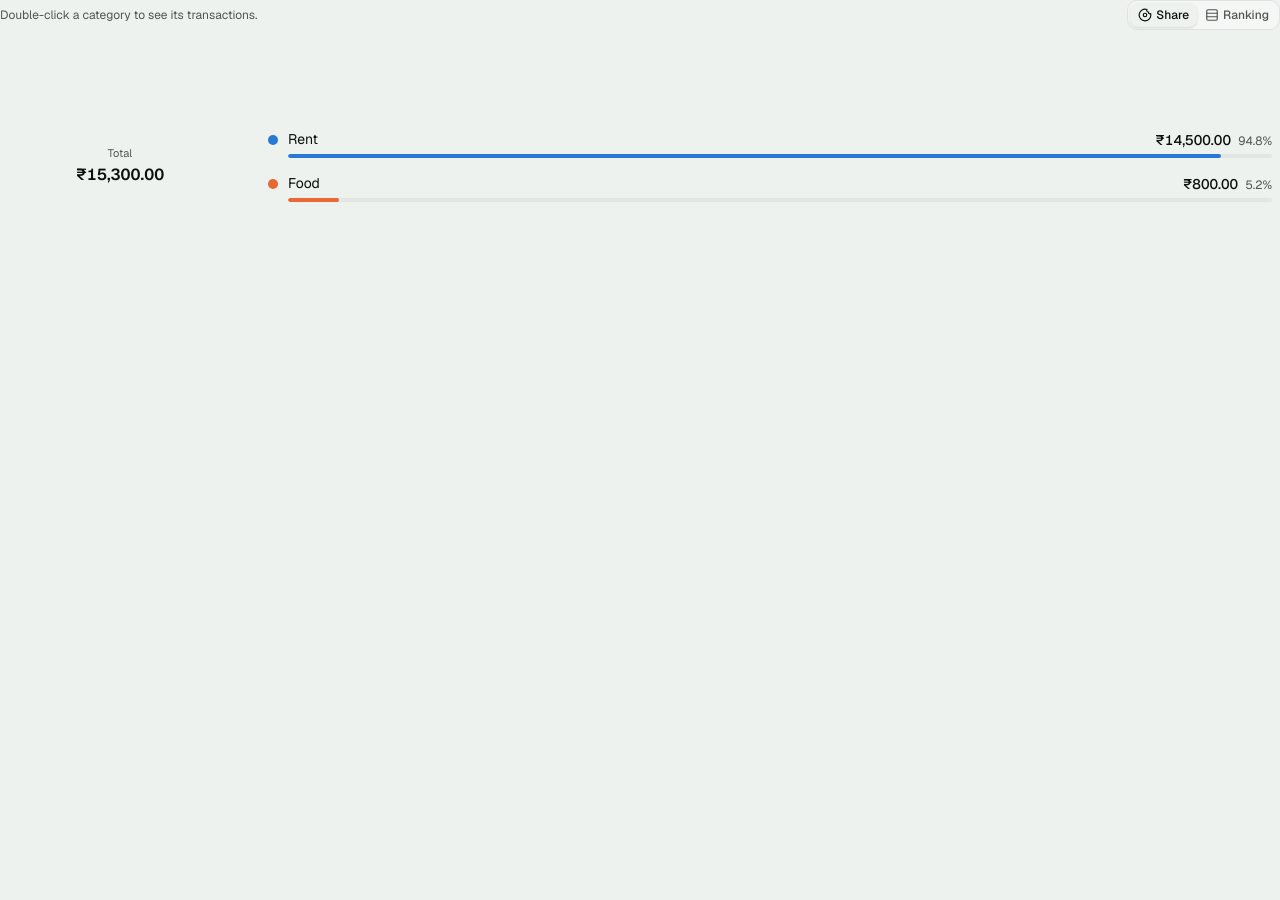
Test case: Category transactions pop-up › does not open on a single click, and opens with Enter from the keyboard
This screenshot has width=1280, height=900.
Click the button "Food ₹800.00 5.2%" at (304, 183), box [260,168,1279,208]
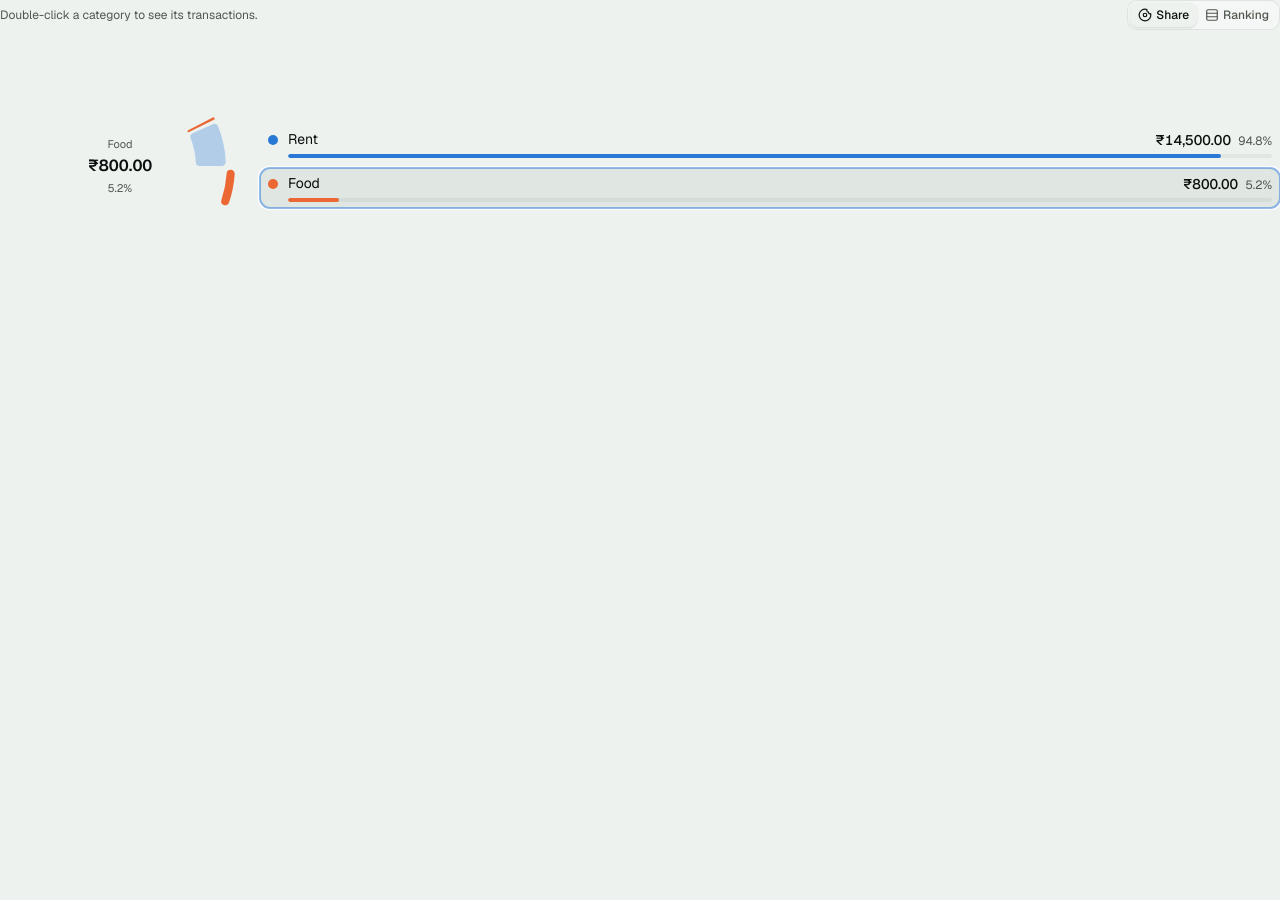
Click the button "Food ₹800.00 5.2%" at (304, 183), box [260,168,1279,208]
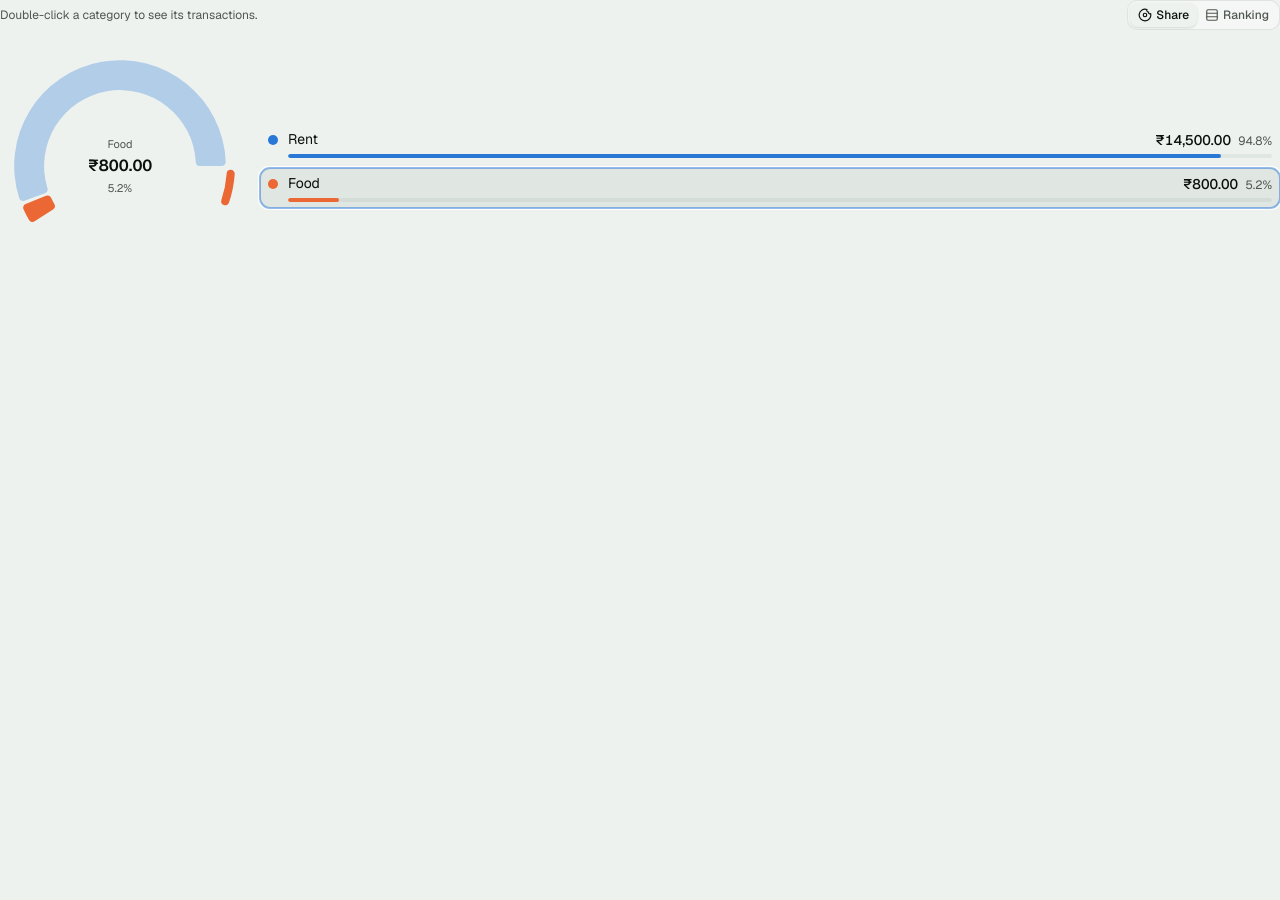
Press Enter
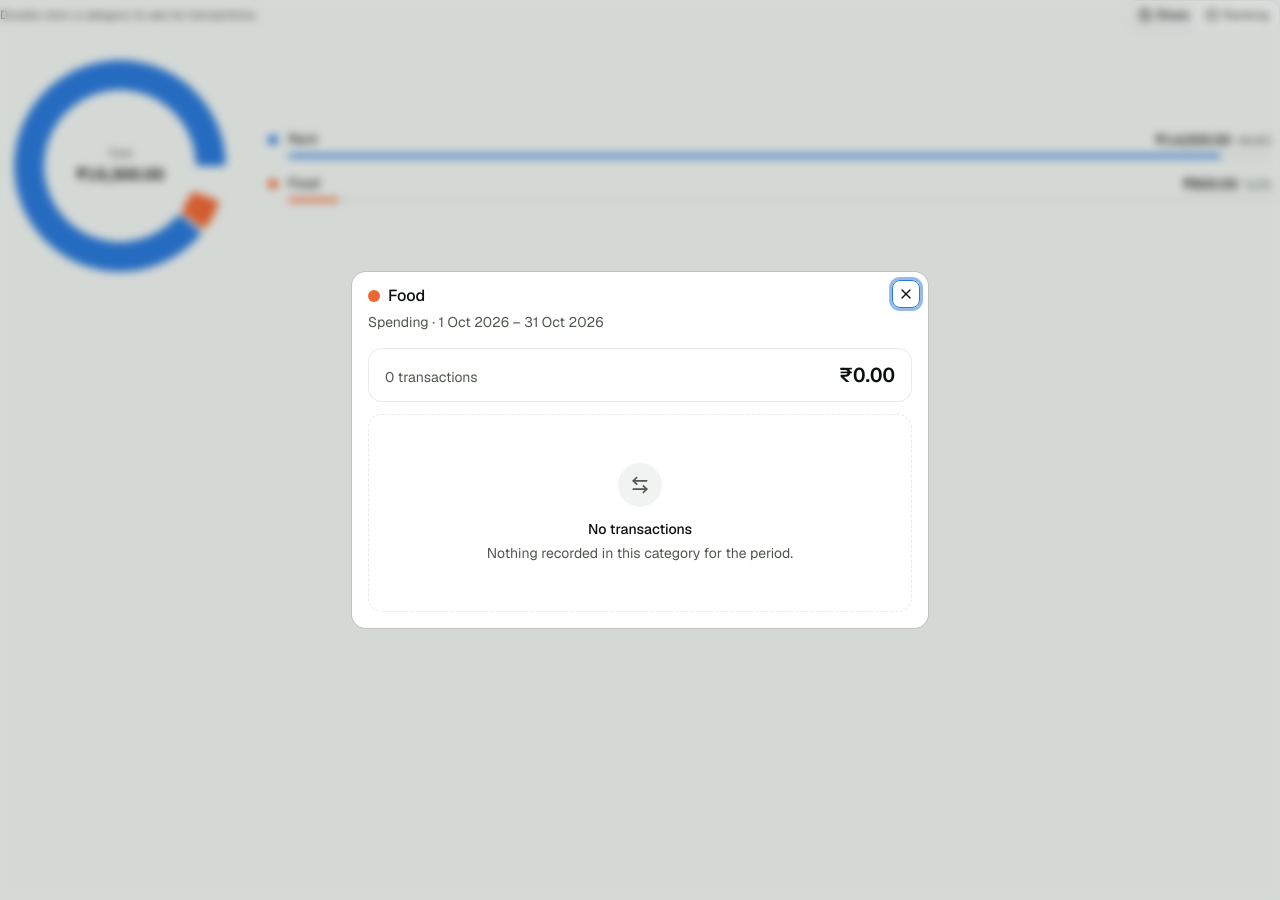
Expected: the dialog shows "Food", [388,285,425,306]
